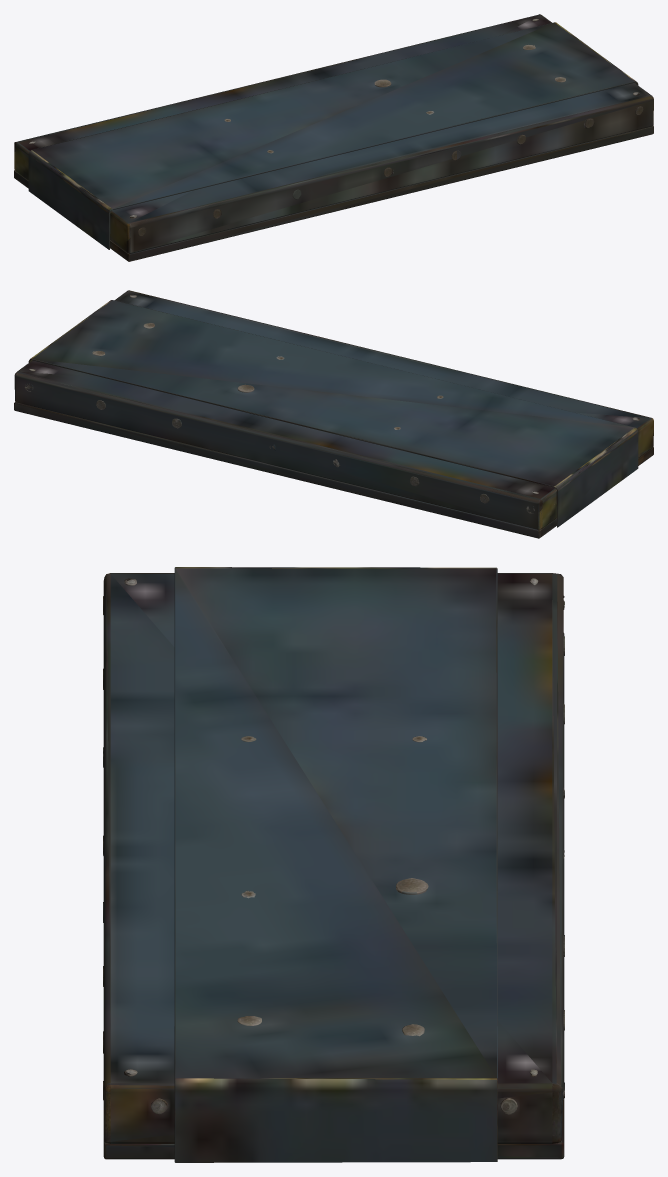
File: platform-edge-trim.glb
The picture shows the model from 3 angles, top to bottom: view 1: azimuth 30°, elevation 25°; view 2: azimuth 150°, elevation 25°; view 3: azimuth 270°, elevation 25°; orthographic projection. The views are drawn at different scales.
Bounding box in the file's own units: 1 × 0.0776 × 0.3779.
1 material, 1 textured.
